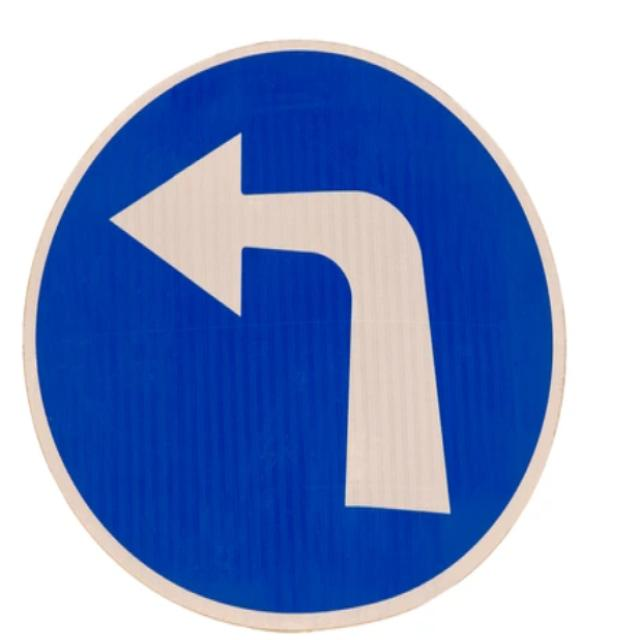LEFT: (24, 42, 565, 628)
